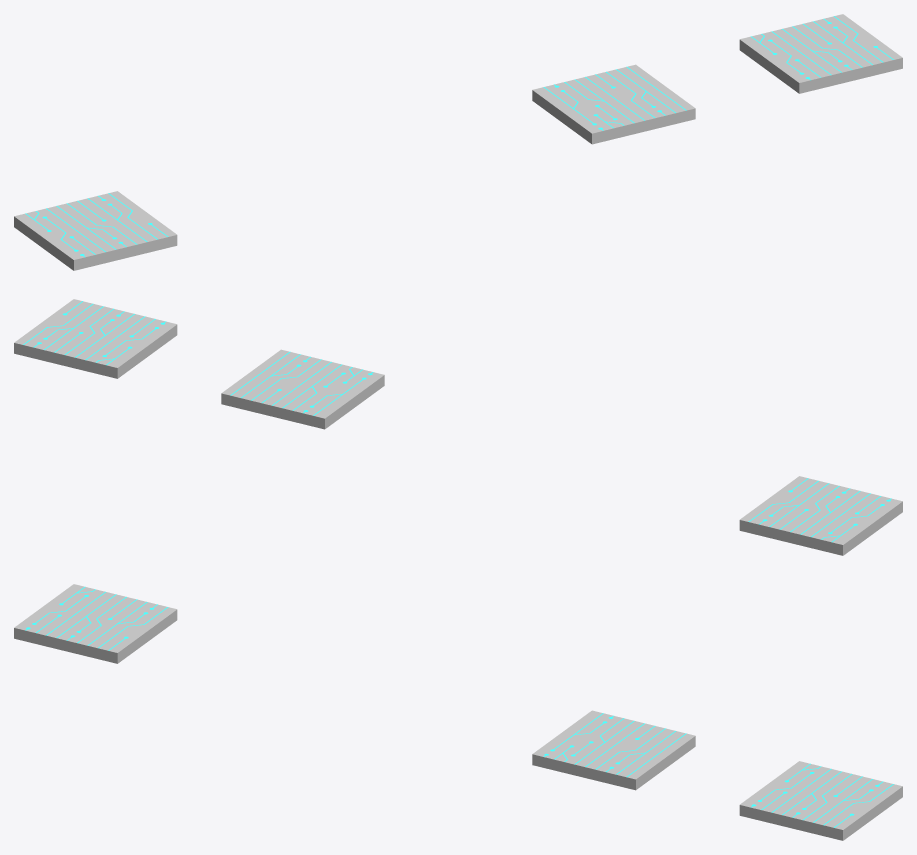
The model's file is floor_plat2.glb.
3 views of the same model, one above another, from view 1: azimuth 30°, elevation 25°; view 2: azimuth 150°, elevation 25°; view 3: azimuth 330°, elevation 25° (orthographic).
Visible parts, largest first — view 1: Cube.005, Plane.046; view 2: Cube.005, Plane.046; view 3: Cube.005, Plane.046.
Boxes of the visible parts, x1,y1,x2,y2 form: Cube.005: (14,14,902,270); Plane.046: (25,16,893,257); Cube.005: (14,299,902,555); Plane.046: (23,301,891,542); Cube.005: (14,584,902,840); Plane.046: (25,586,893,827).
Bounding box in the file's own units: 160 × 2.01 × 20.
